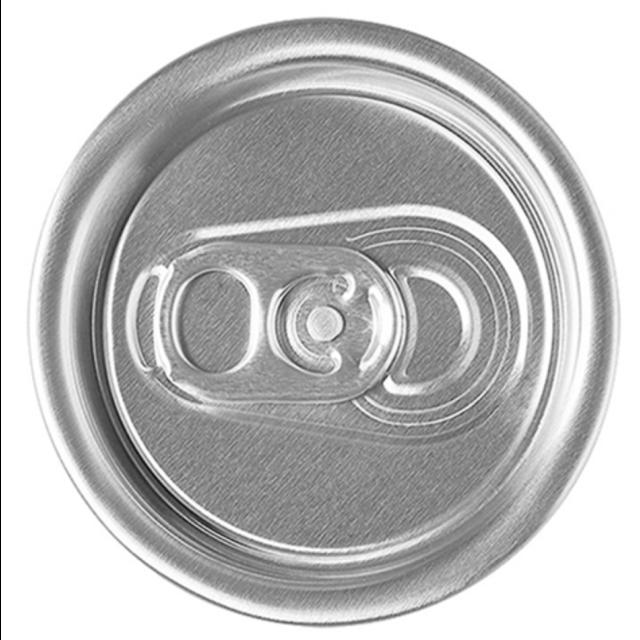can: (27, 12, 640, 640)
